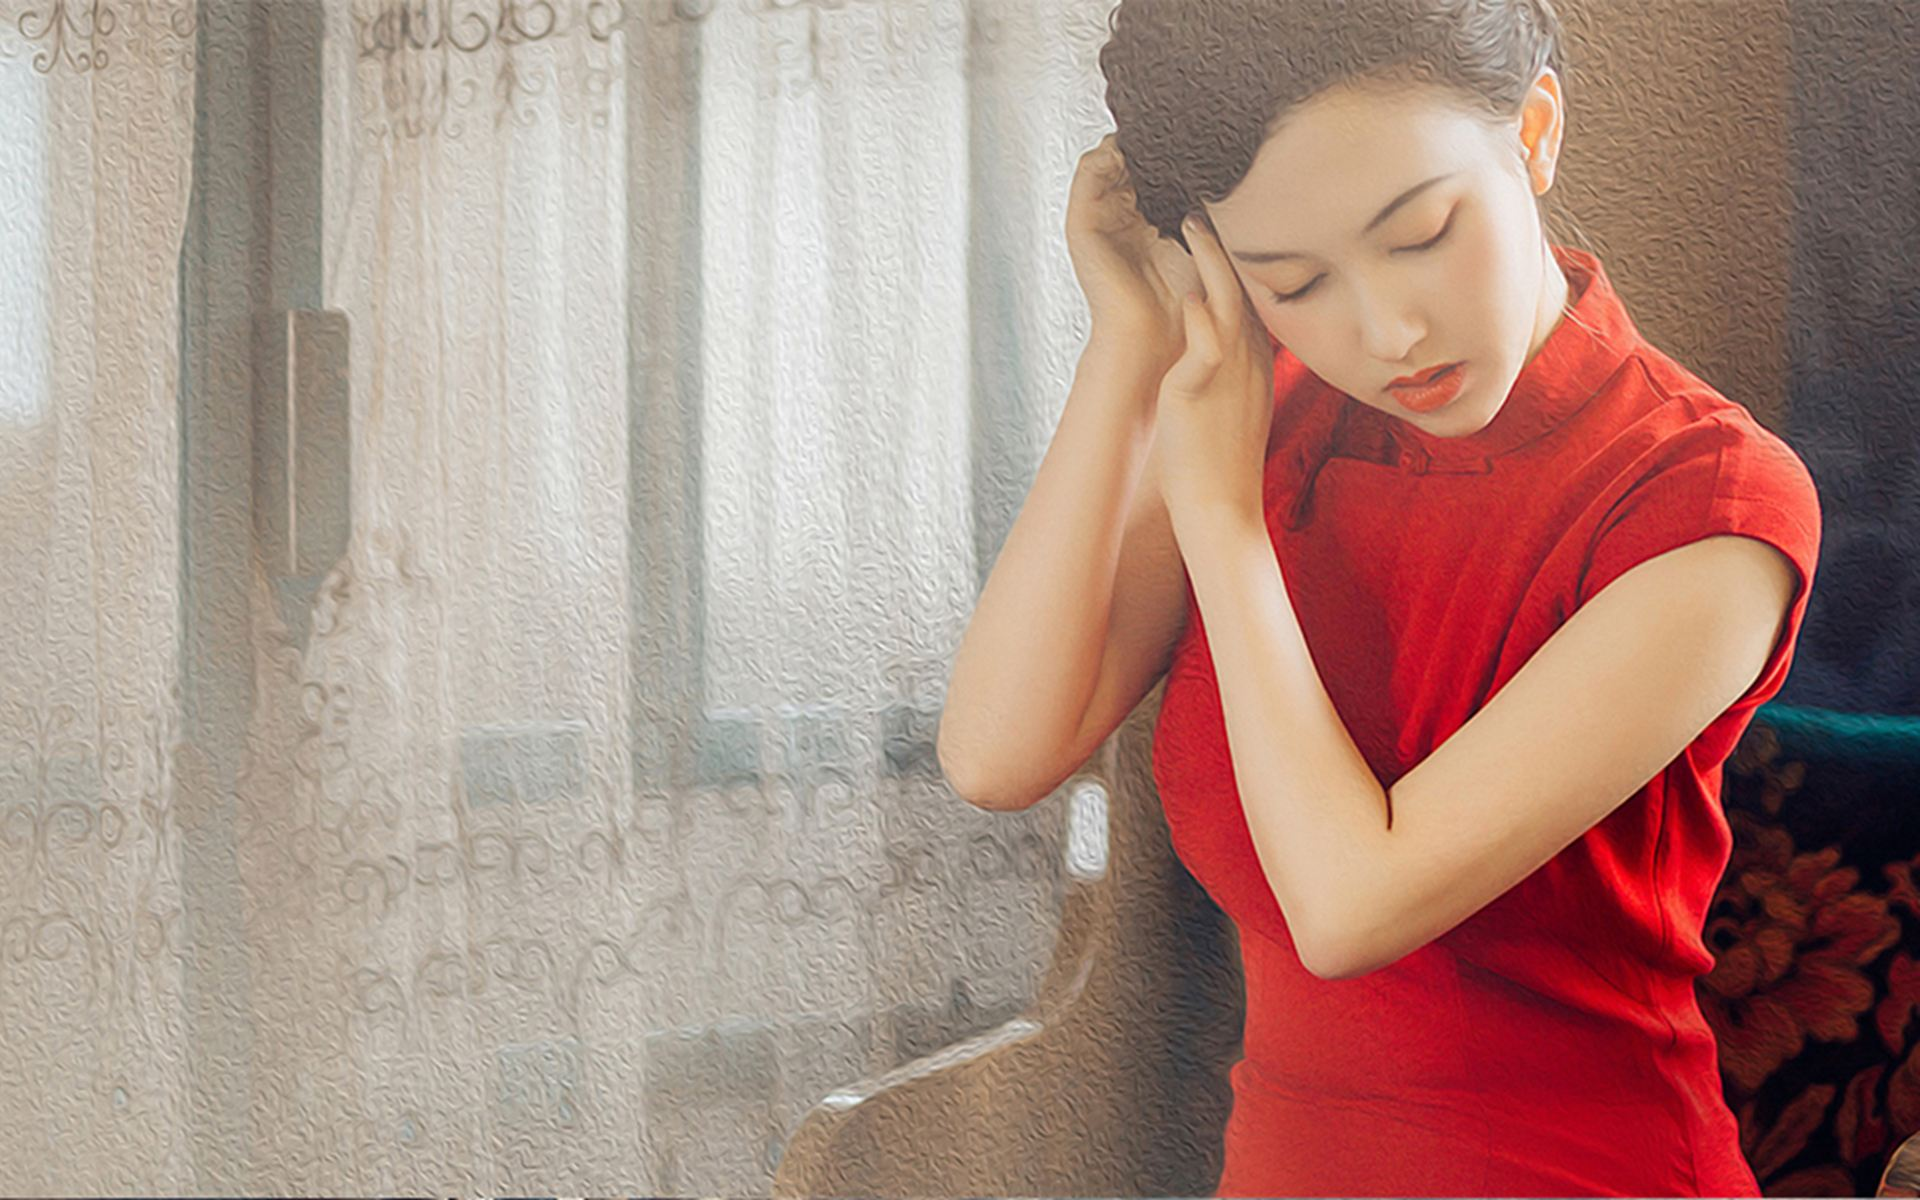person: (851, 26, 1883, 1200)
